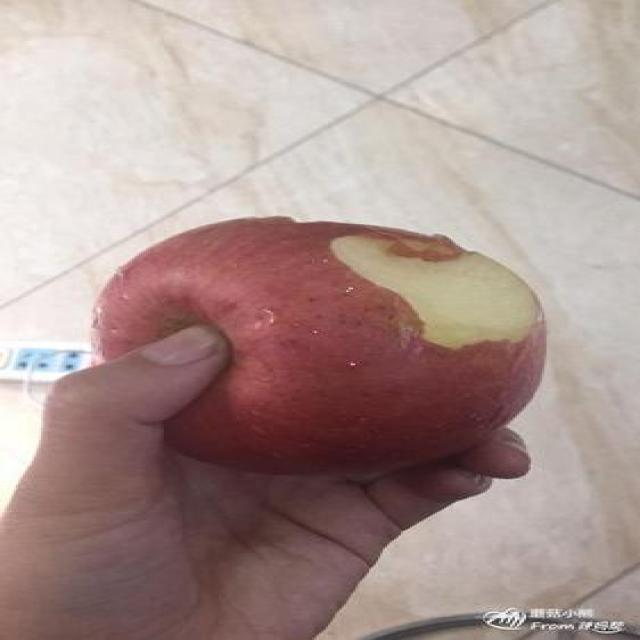Apple: (93, 212, 553, 477)
